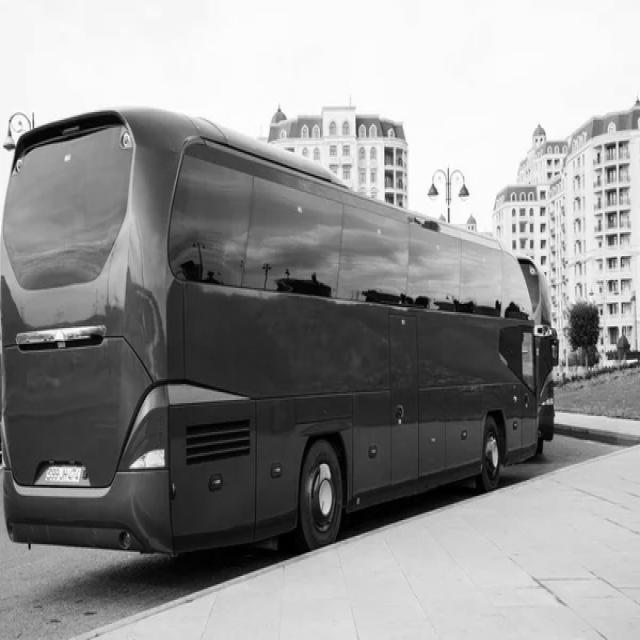Bus: (0, 109, 541, 554)
